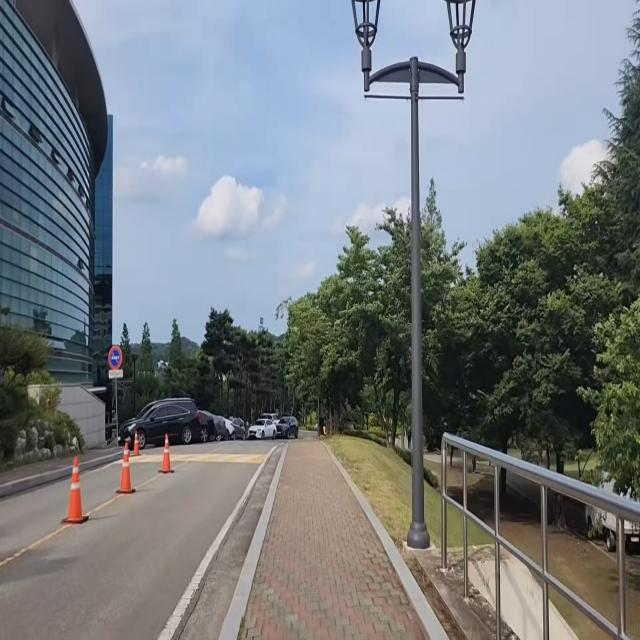obstacle: (349, 0, 480, 547), (117, 387, 210, 452), (56, 444, 92, 530), (155, 418, 177, 479), (115, 439, 137, 496)
road: (0, 437, 287, 640)
sidewalk: (1, 446, 127, 492)
